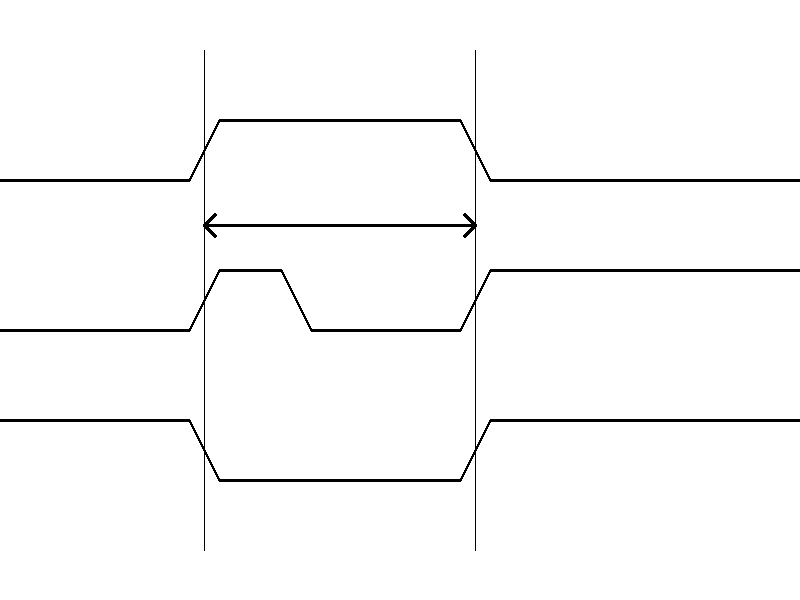double_arrow: (204, 210, 475, 240)
